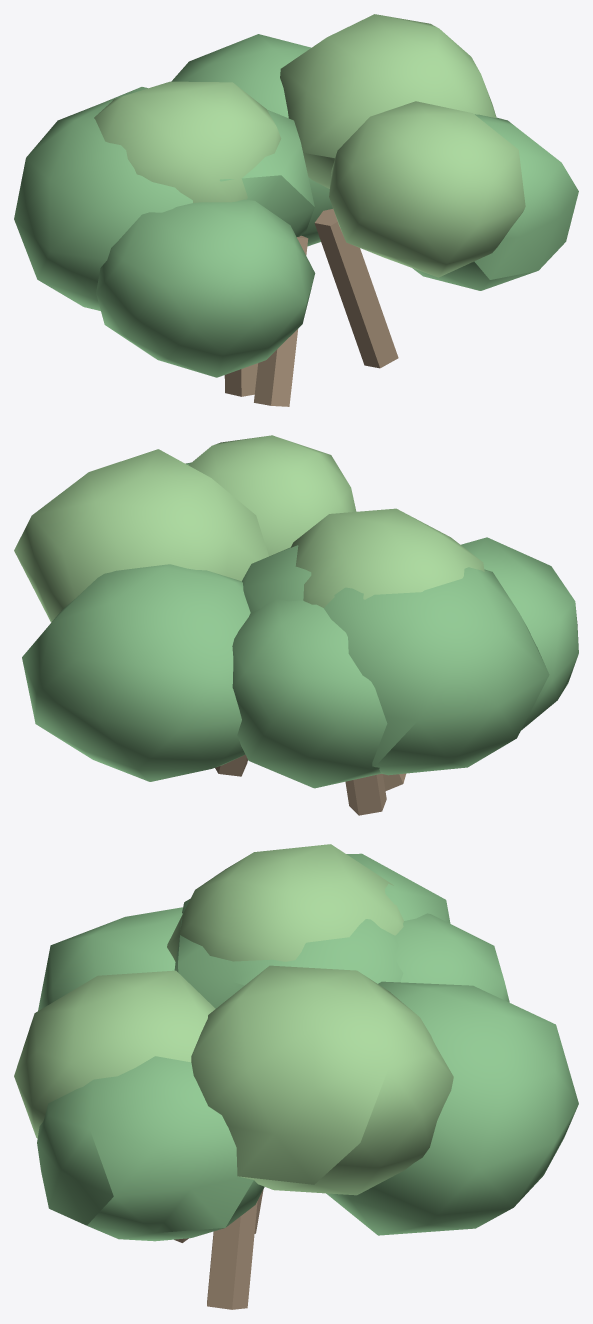
The model's file is BushSmall.fbx.
3 renders of one model, top to bottom at view 1: azimuth 30°, elevation 25°; view 2: azimuth 150°, elevation 25°; view 3: azimuth 270°, elevation 25°, orthographic. The views are drawn at different scales.
Parts seen in each view (by area): view 1: BushSmall; view 2: BushSmall; view 3: BushSmall.
Boxes of the visible parts, bbox=[...] form: BushSmall: bbox=[14, 14, 578, 406]; BushSmall: bbox=[14, 435, 578, 815]; BushSmall: bbox=[14, 844, 578, 1309].
Bounding box in the file's own units: 0.998 × 0.6029 × 0.876.
